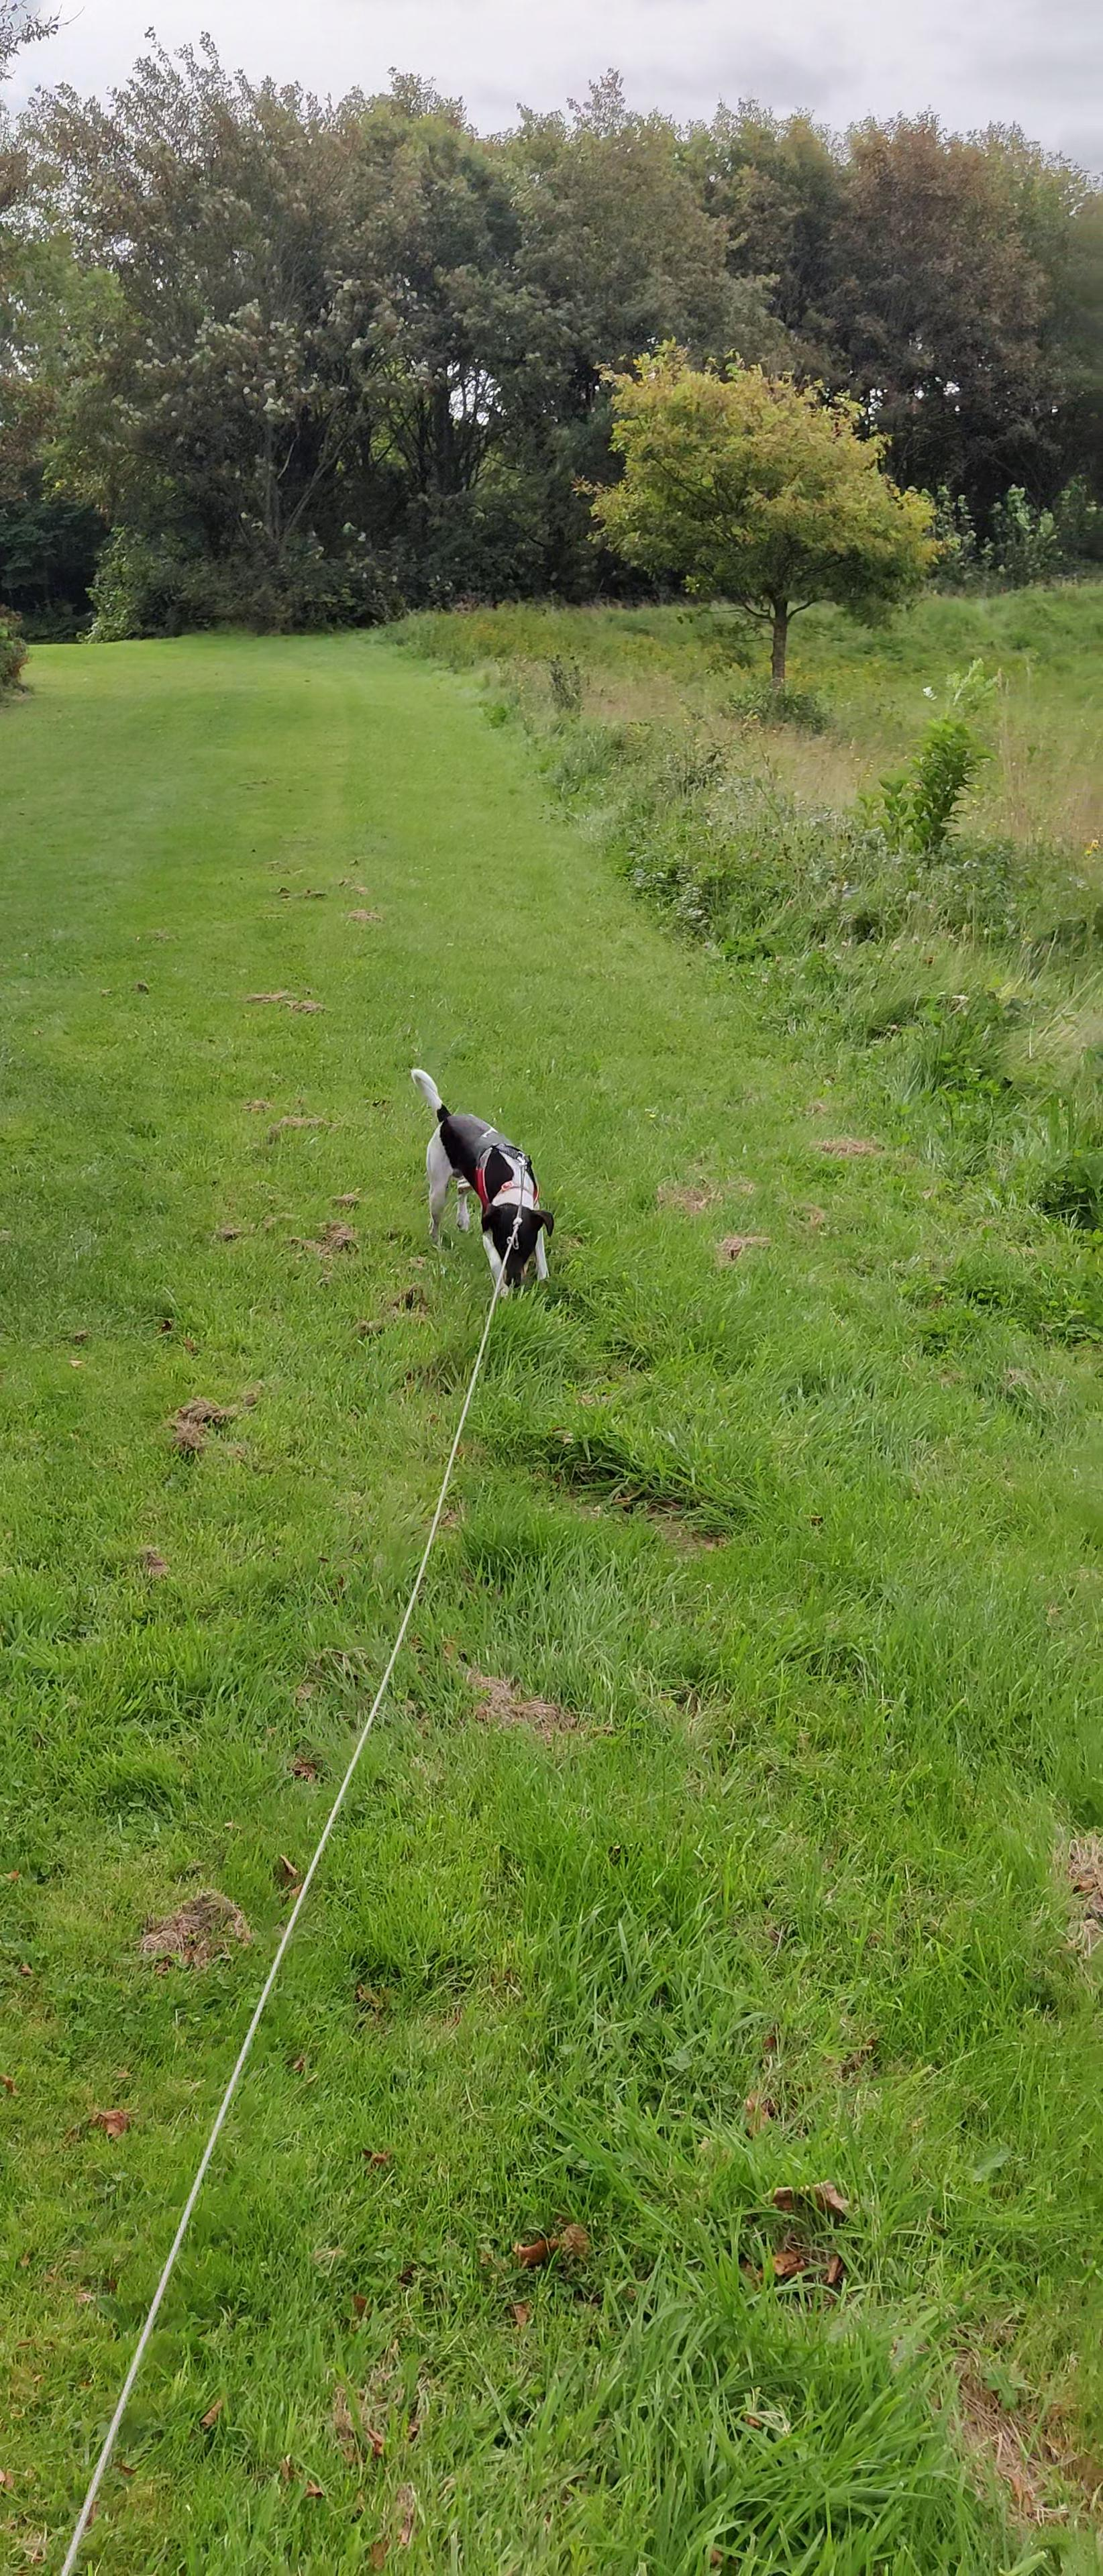Dog: (401, 1061, 556, 1299)
